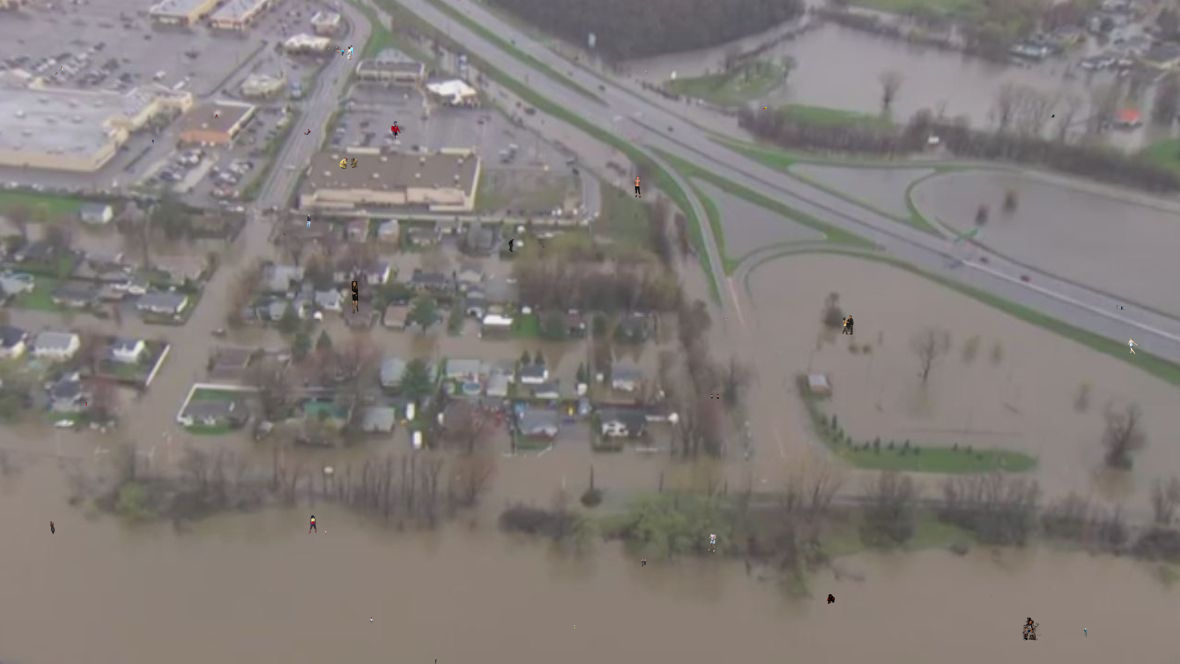Human: (508, 238, 547, 252), (1022, 617, 1044, 641), (327, 45, 353, 60), (351, 281, 359, 314), (842, 315, 854, 335), (339, 157, 358, 169), (1128, 338, 1141, 354), (391, 121, 401, 139), (308, 515, 317, 534), (634, 176, 641, 198), (708, 534, 716, 552), (55, 66, 64, 75), (827, 594, 835, 604), (49, 521, 55, 534), (306, 214, 311, 228), (1116, 305, 1125, 310), (641, 558, 646, 567), (304, 129, 311, 135), (711, 394, 719, 399), (986, 593, 993, 598), (1084, 628, 1087, 638), (762, 105, 767, 110), (370, 617, 374, 623), (215, 114, 219, 119), (1051, 114, 1055, 118), (645, 69, 648, 74), (84, 402, 87, 407), (726, 318, 730, 321), (283, 232, 286, 236), (574, 624, 576, 629), (435, 659, 437, 664), (152, 139, 154, 144), (325, 530, 327, 535)
